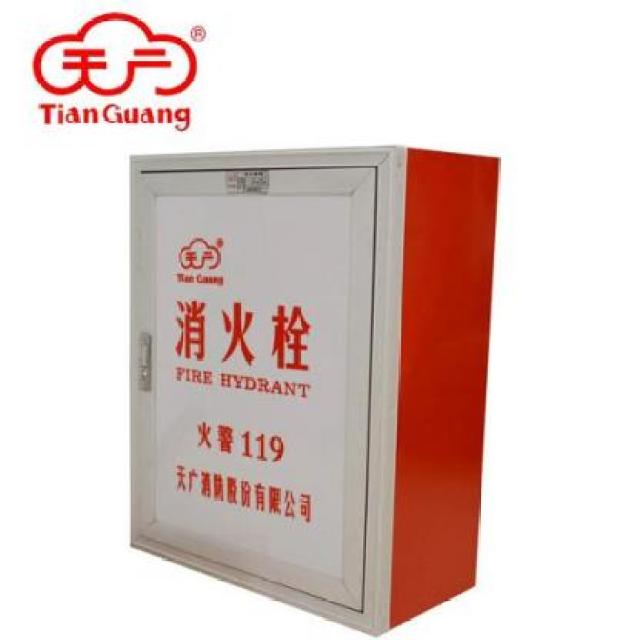firehydrant: (123, 138, 504, 640)
